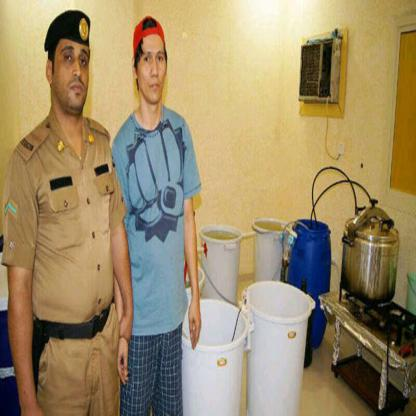face: (57, 25, 91, 108), (139, 29, 167, 104)
